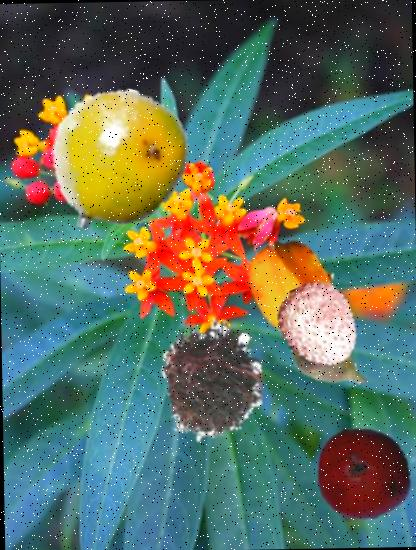Beetroot: (284, 316, 374, 407)
Carambula: (238, 234, 356, 352)
Lychee: (273, 281, 363, 371)
Maracuja: (43, 86, 192, 235)
Pomegranate: (316, 424, 412, 522)
Rambutan: (145, 311, 279, 445)
